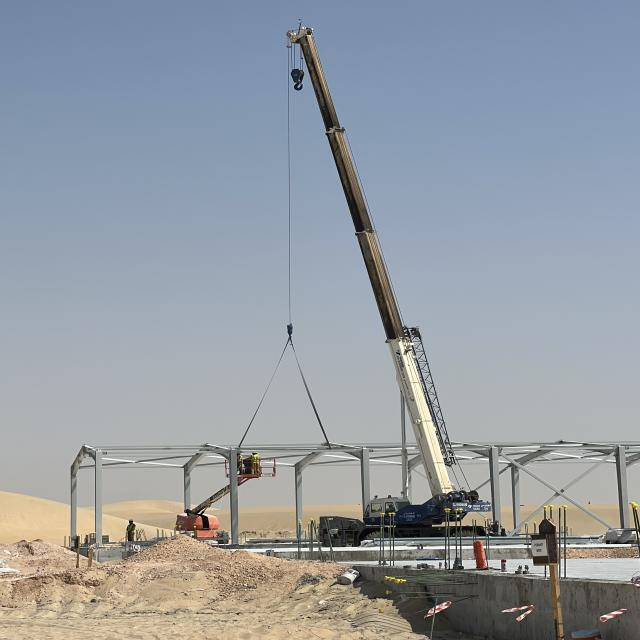Mobile Crane: (235, 11, 493, 542), (174, 450, 278, 542)
